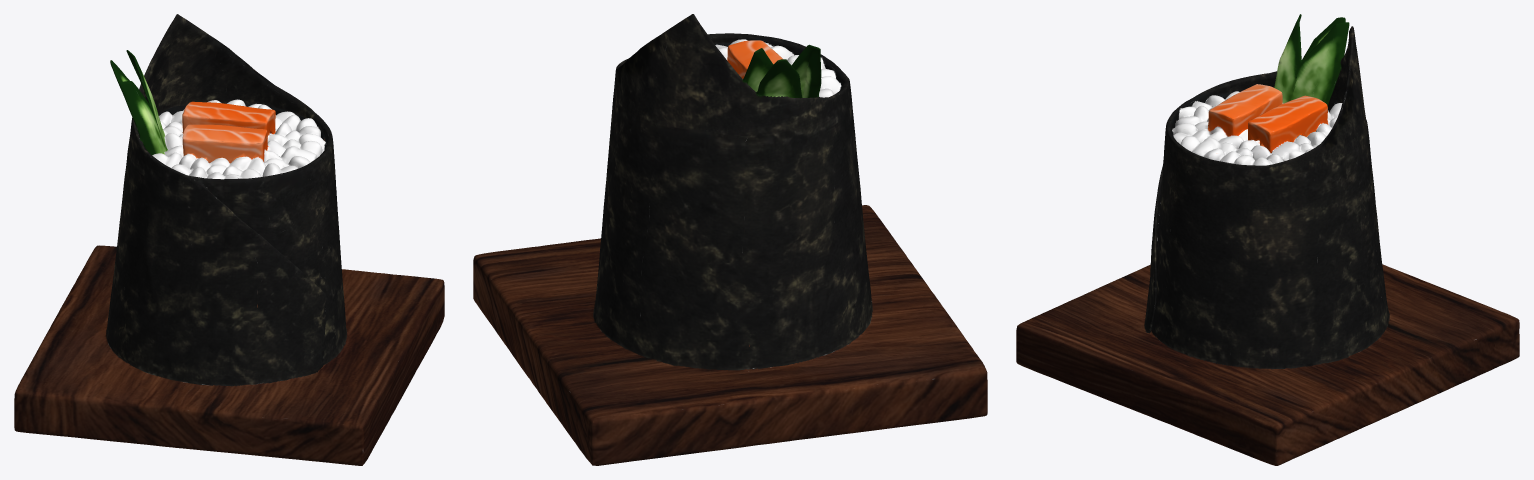
Rendered from temaki.glb.
The picture shows the model from 3 angles, left to right: view 1: azimuth 30°, elevation 25°; view 2: azimuth 150°, elevation 25°; view 3: azimuth 270°, elevation 25°; orthographic projection. The views are drawn at different scales.
Visible parts, largest first — view 1: world; view 2: world; view 3: world.
Part boxes in pixels (box(x1,y1,x2,y2)): world: box(14, 14, 444, 465); world: box(473, 14, 987, 465); world: box(1016, 14, 1519, 465).
Bounding box in the file's own units: 1 × 0.729 × 1.
Materials: 1 (1 with a texture image).
